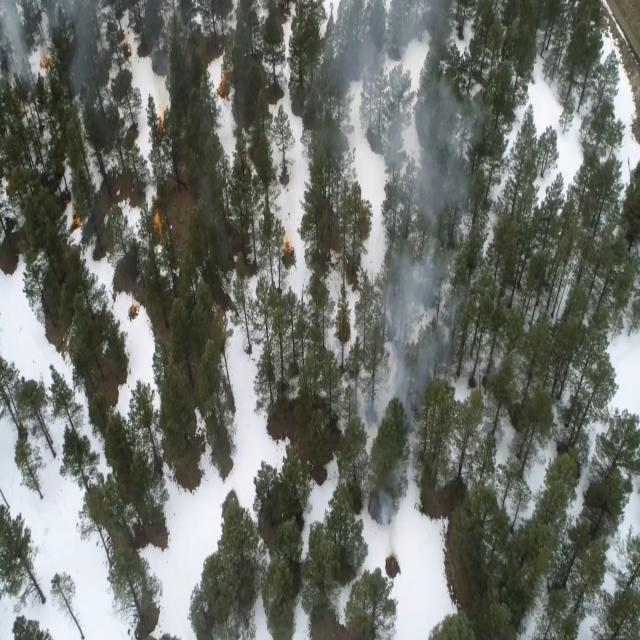Fire: (115, 28, 141, 68), (149, 204, 170, 238), (124, 297, 149, 325), (214, 71, 235, 100), (384, 541, 402, 574), (64, 208, 90, 230), (153, 102, 169, 136), (37, 48, 53, 76), (283, 231, 298, 260)
Smoke: (332, 0, 486, 546), (0, 4, 94, 89), (143, 34, 176, 112)
